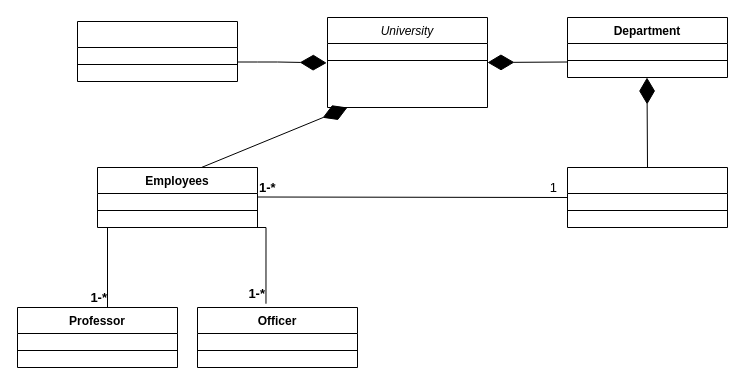
Some shapes in this 745 by 385 pixel diagram are drawn without their labels. Here are the shapes that lost their labels. From the top down, the centre of each, then its label:
At (157,51): "Classroom".
At (647,197): "Office".
